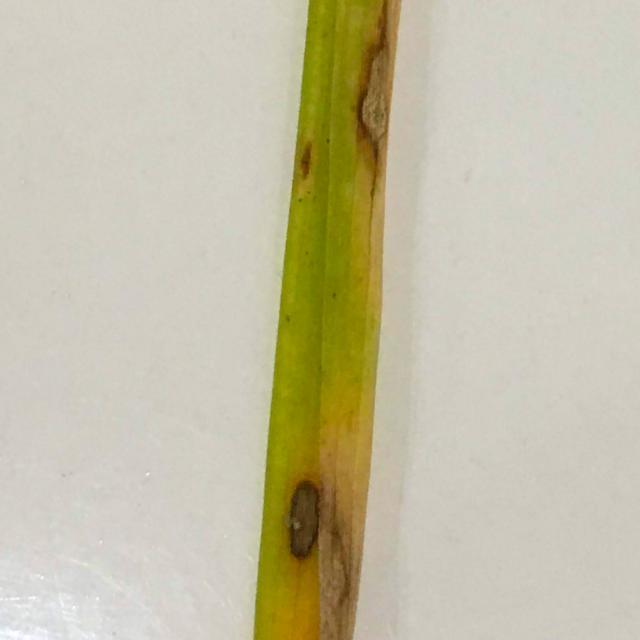Blast: (284, 480, 320, 562), (360, 54, 388, 140), (296, 138, 317, 183)
